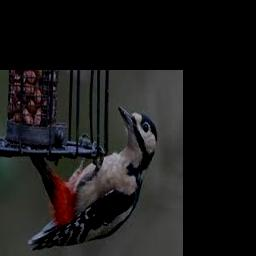Woodpecker: (28, 105, 158, 250)
